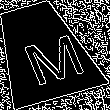M_N: (6, 20, 79, 83)
